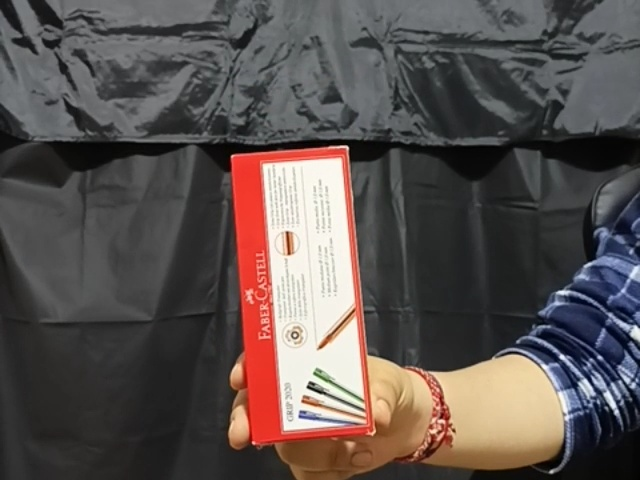xd: (230, 150, 373, 438)
